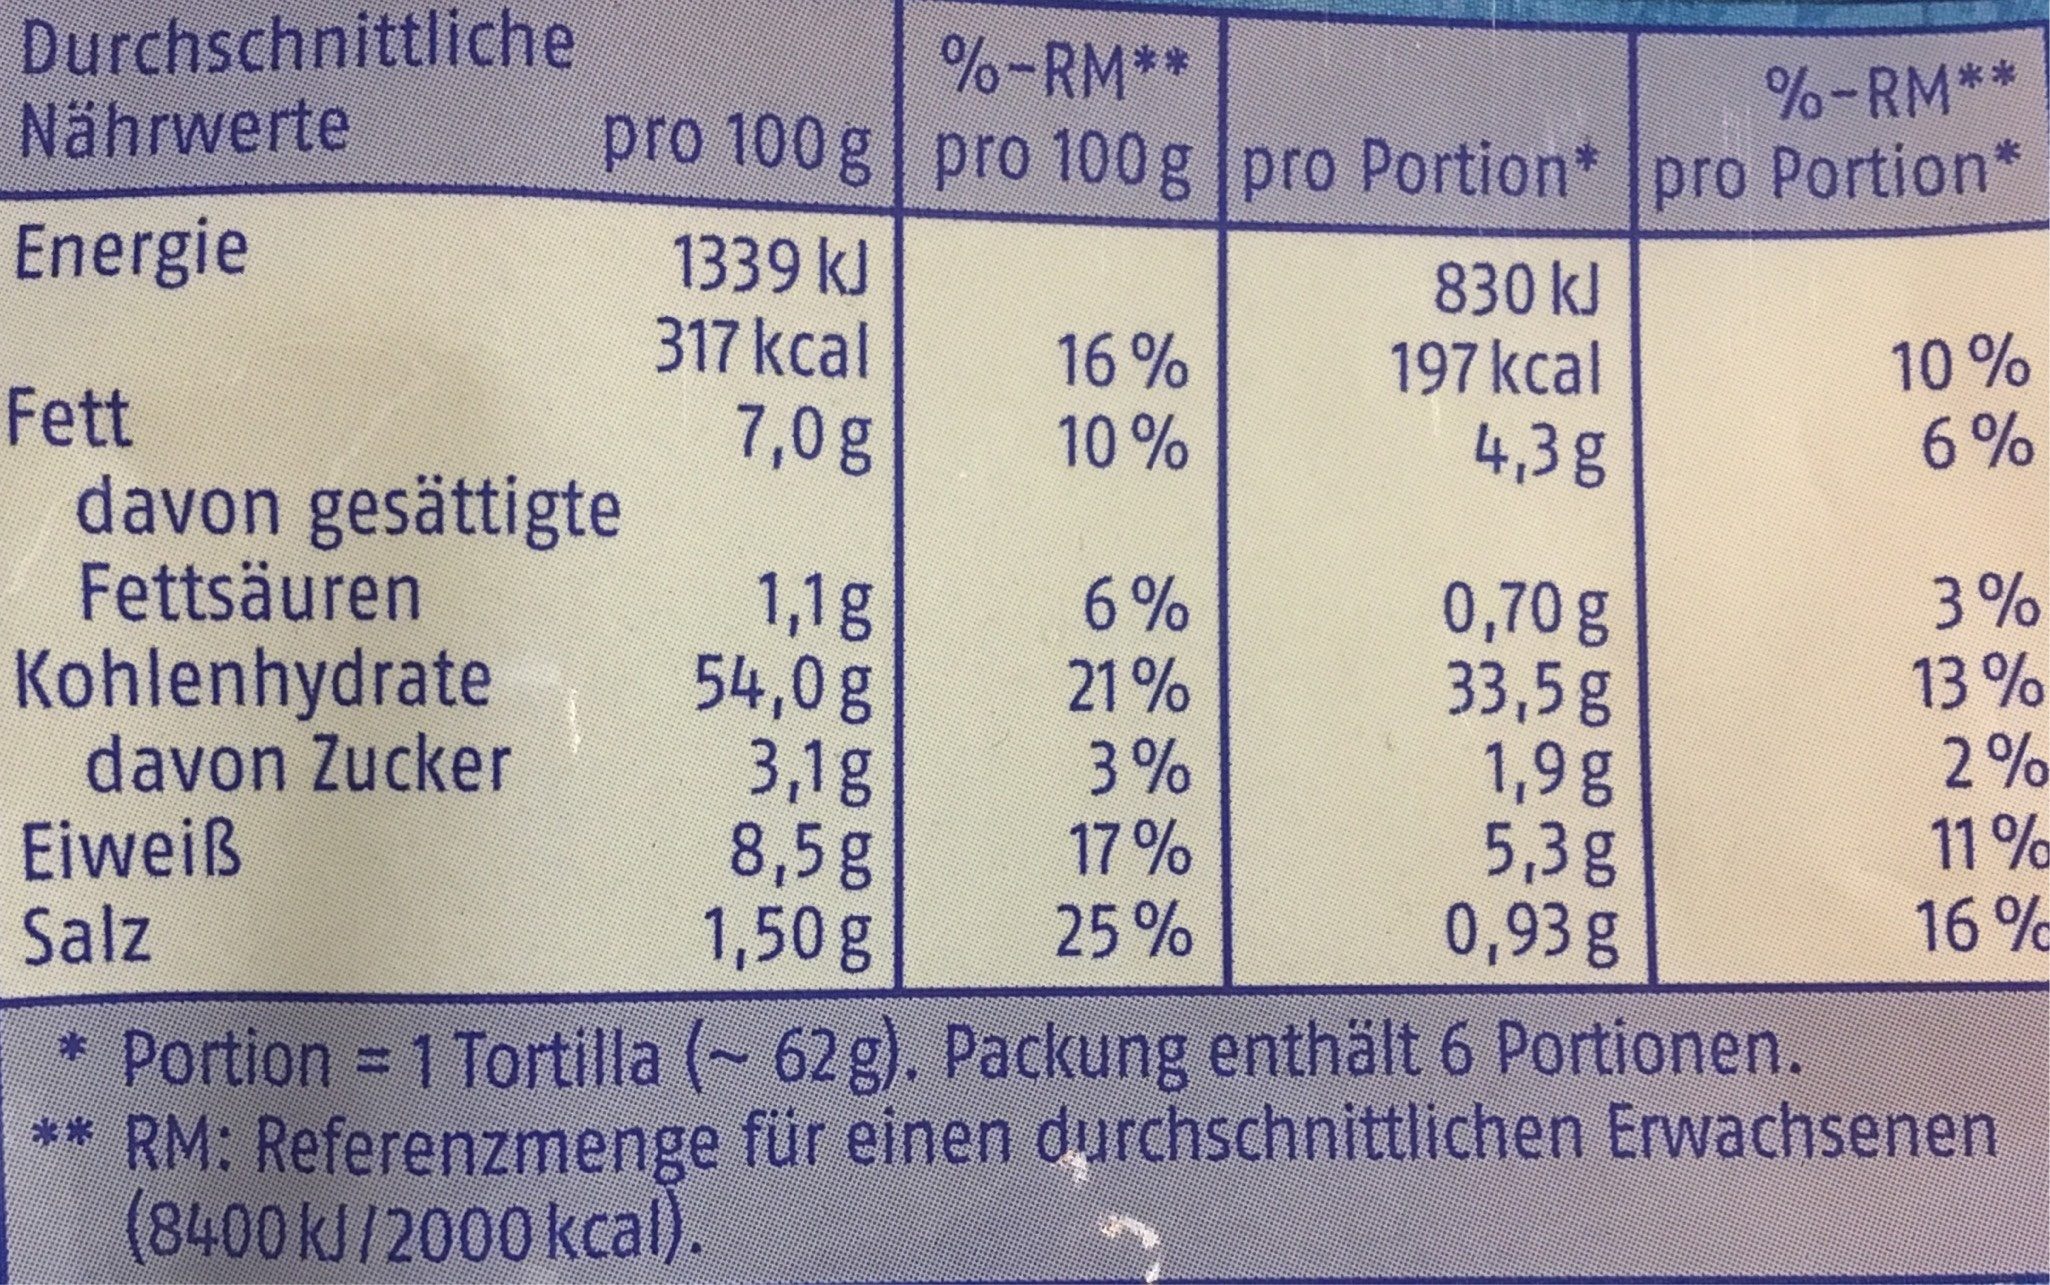column: (4, 4, 592, 983), (1650, 10, 2050, 993), (1234, 10, 1634, 983), (598, 6, 900, 990), (910, 7, 1211, 984)
table: (1, 4, 2037, 982)
